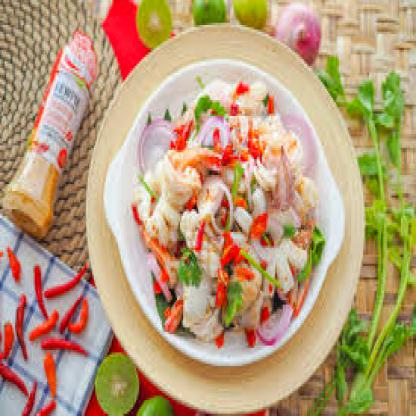Yum: (107, 46, 340, 384)
